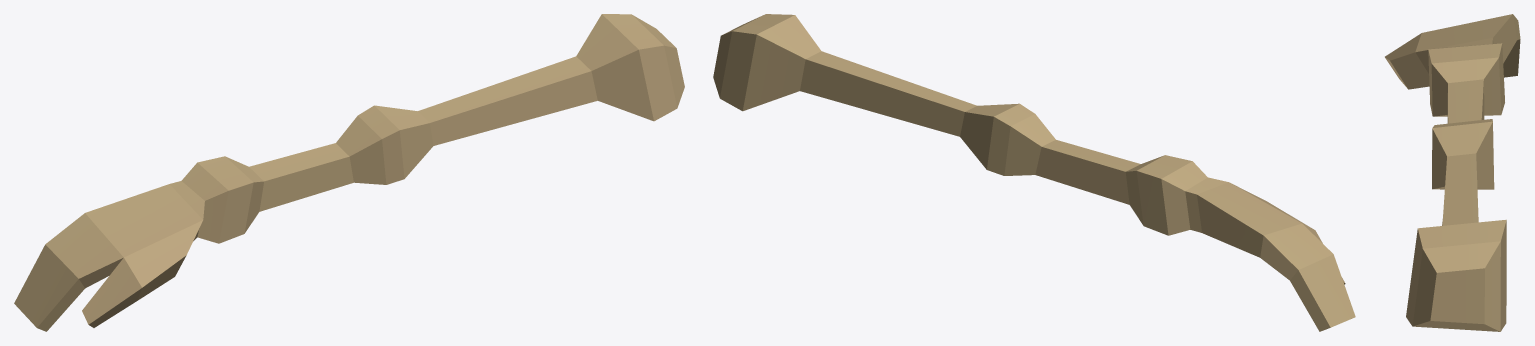
File: Skeleton_arm_r.fbx
3 renders of one model, left to right at view 1: azimuth 30°, elevation 25°; view 2: azimuth 150°, elevation 25°; view 3: azimuth 270°, elevation 25°, orthographic. The views are drawn at different scales.
Parts seen in each view (by area): view 1: Skeleton_arm_r; view 2: Skeleton_arm_r; view 3: Skeleton_arm_r.
Part boxes in pixels (x1,y1,x2,y2): Skeleton_arm_r: [14, 14, 684, 331]; Skeleton_arm_r: [713, 14, 1355, 331]; Skeleton_arm_r: [1385, 14, 1520, 331].
Bounding box in the file's own units: 67.82 × 16.62 × 10.68.
